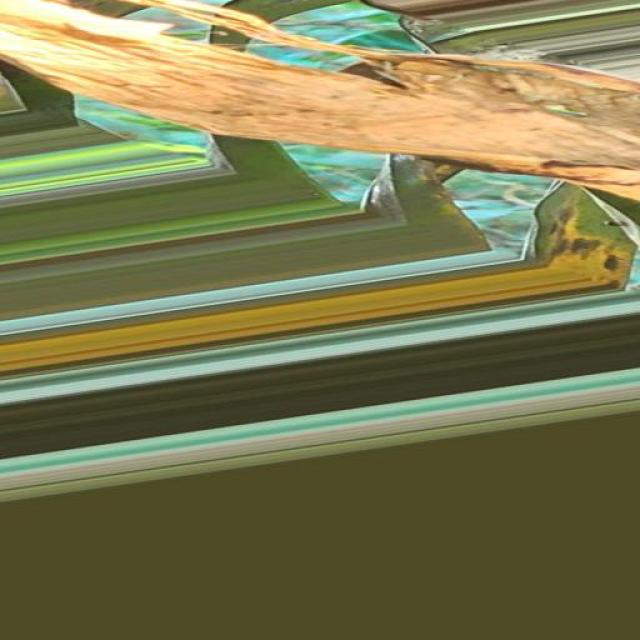Bract_mosaic_virus: (1, 4, 640, 306)
